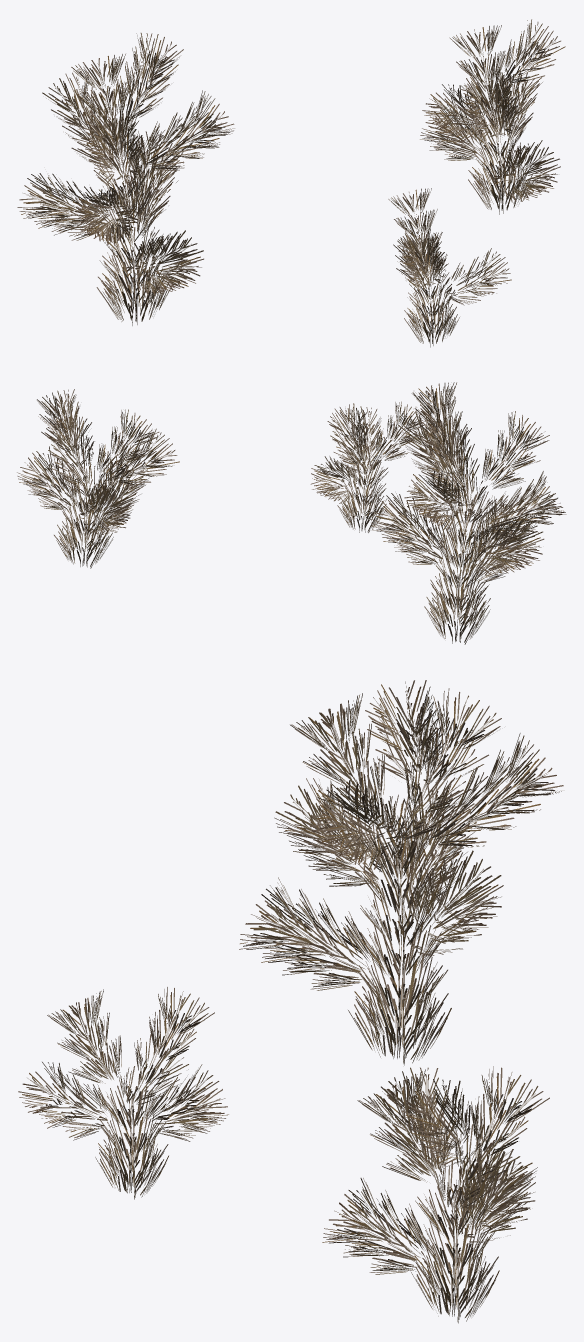
File: cholla_b.glb
3 views of the same model, one above another, from view 1: azimuth 30°, elevation 25°; view 2: azimuth 150°, elevation 25°; view 3: azimuth 270°, elevation 25° (orthographic). The views are drawn at different scales.
Visible parts, largest first — view 1: geometry_0; view 2: geometry_0; view 3: geometry_0.
Part boxes in pixels (x1,y1,x2,y2): geometry_0: (17, 19, 565, 347); geometry_0: (17, 382, 566, 644); geometry_0: (18, 680, 563, 1323).
Bounding box in the file's own units: 1616 × 800 × 1023.
1 material, 1 textured.
